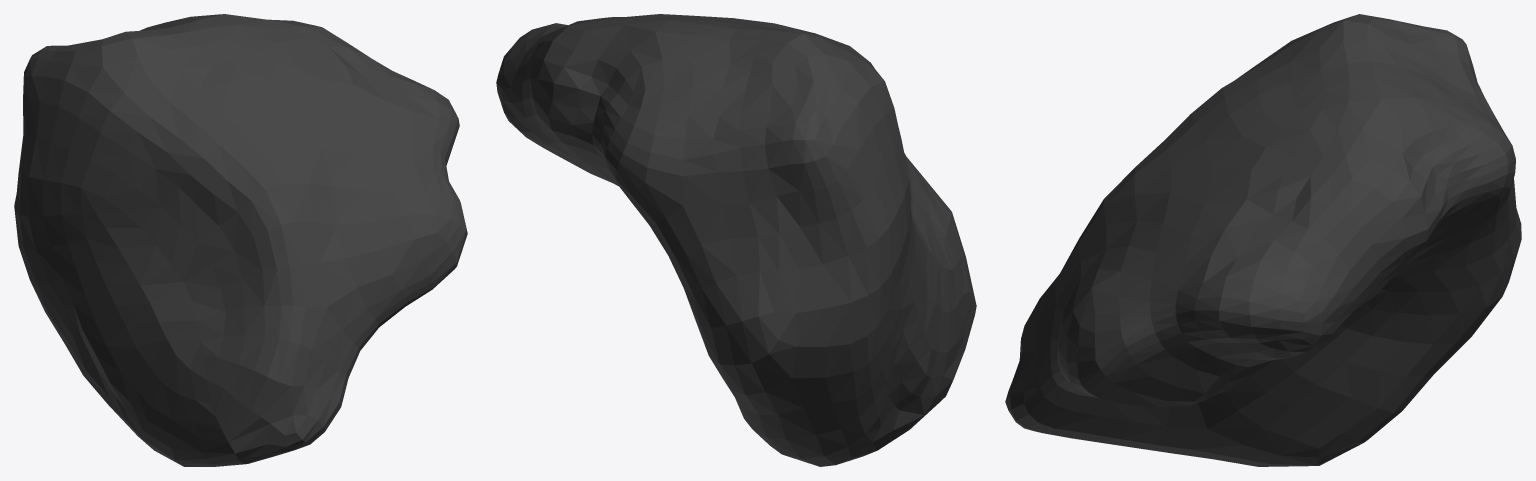
File: Carpal_bone_1st.glb
3 views of the same model, side by side, from view 1: azimuth 30°, elevation 25°; view 2: azimuth 150°, elevation 25°; view 3: azimuth 270°, elevation 25° (orthographic). The views are drawn at different scales.
Parts seen in each view (by area): view 1: Carpal_bone_1st; view 2: Carpal_bone_1st; view 3: Carpal_bone_1st.
Boxes of the visible parts, <box> form: Carpal_bone_1st: <box>14,14,467,466</box>; Carpal_bone_1st: <box>496,14,976,466</box>; Carpal_bone_1st: <box>1005,14,1521,466</box>.
Bounding box in the file's own units: 0.0824 × 0.0797 × 0.0832.
Materials: 1 (1 with a texture image).
